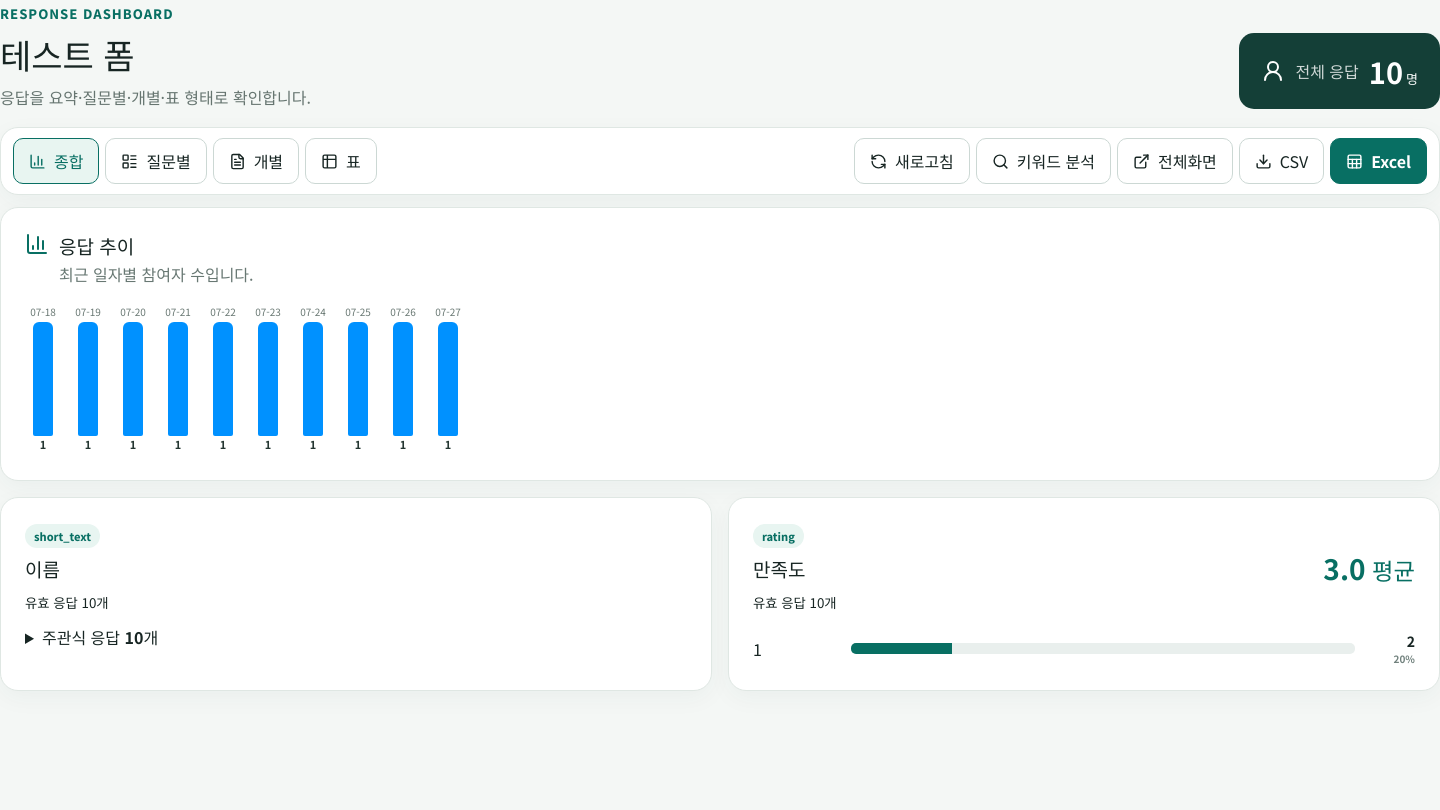
Test: ResultsDashboard › provides advanced filters, configurable columns and server-backed bulk actions
Click the tab "표".
click(341, 161)  # box [305,138,377,184]
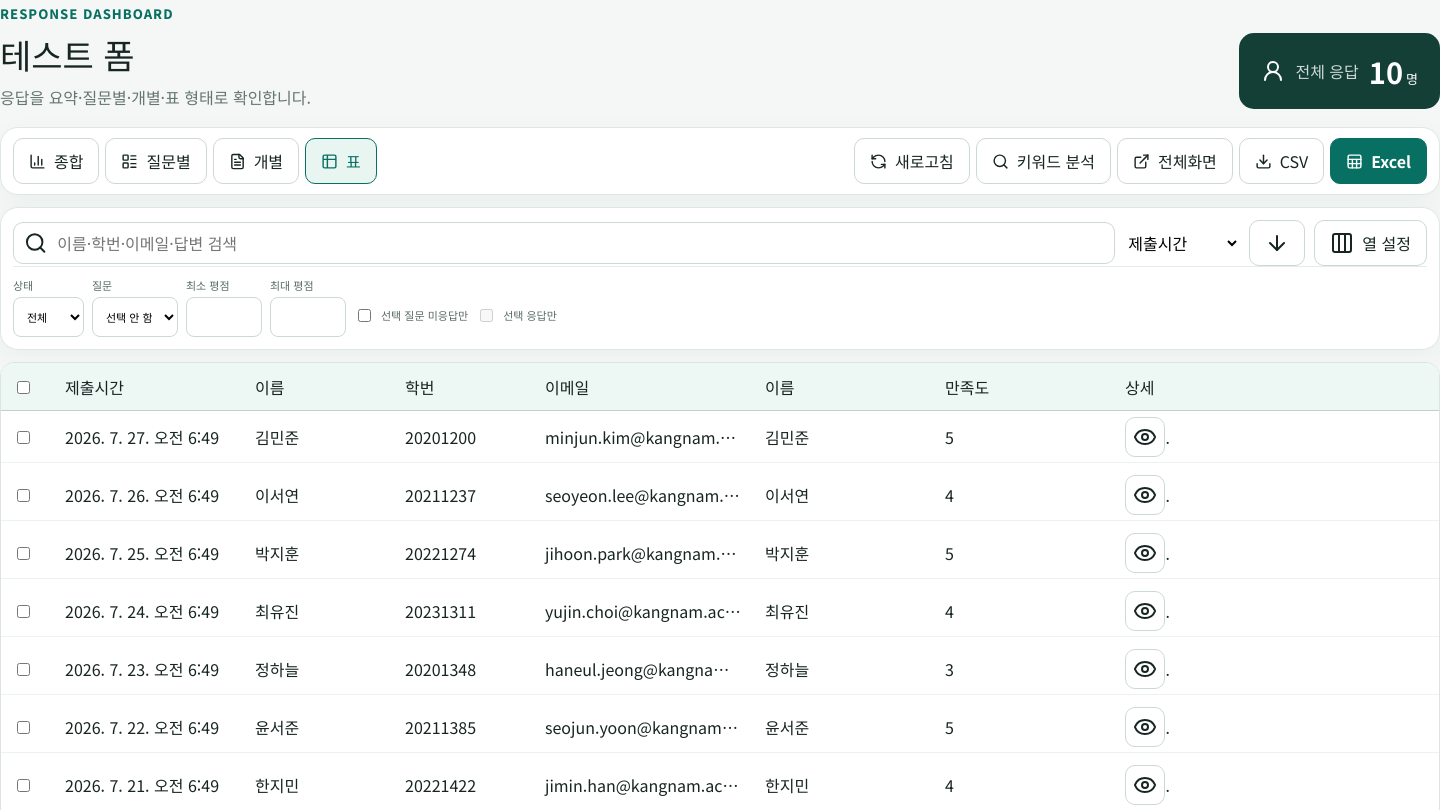
Expected: the dropdown labelled "상태" is shown, [13,297,84,337]
Expected: the text "선택 질문 미응답만" is shown, [358,307,468,323]
Click the button "열 설정".
click(1371, 243)  # box [1314,220,1427,266]
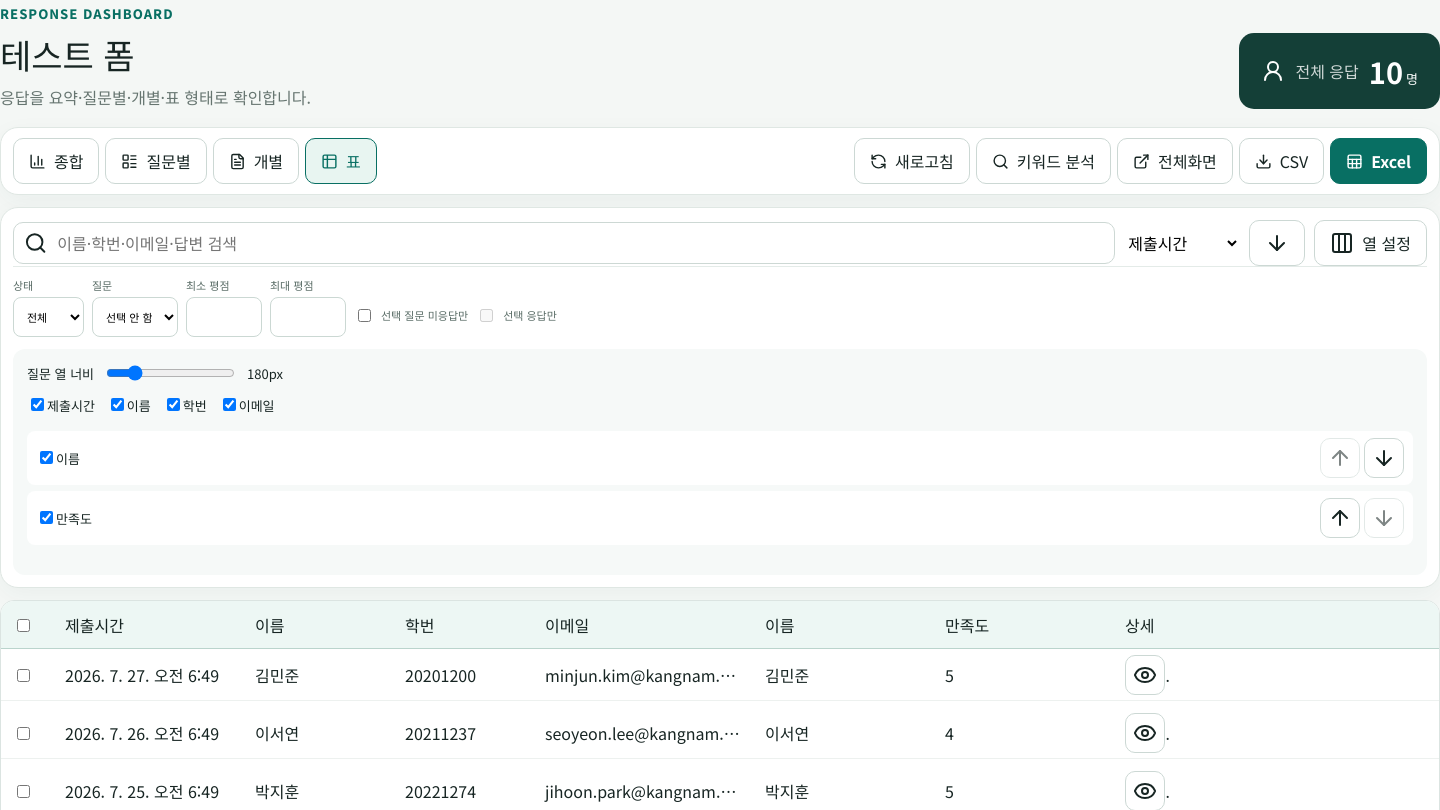
Expected: the checkbox named "현재 페이지 전체 선택" is shown, [17,618,30,632]
Expected: the text "질문 열 너비" is shown, [27,364,94,382]
